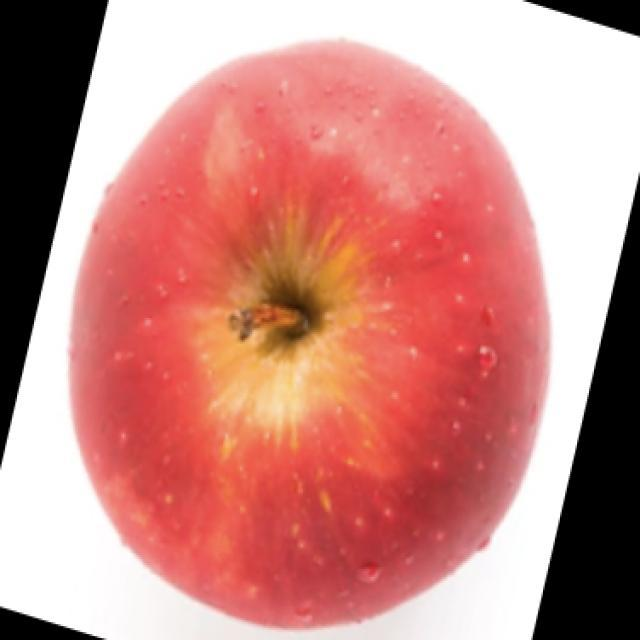Fresh Apple: (78, 38, 541, 640)
